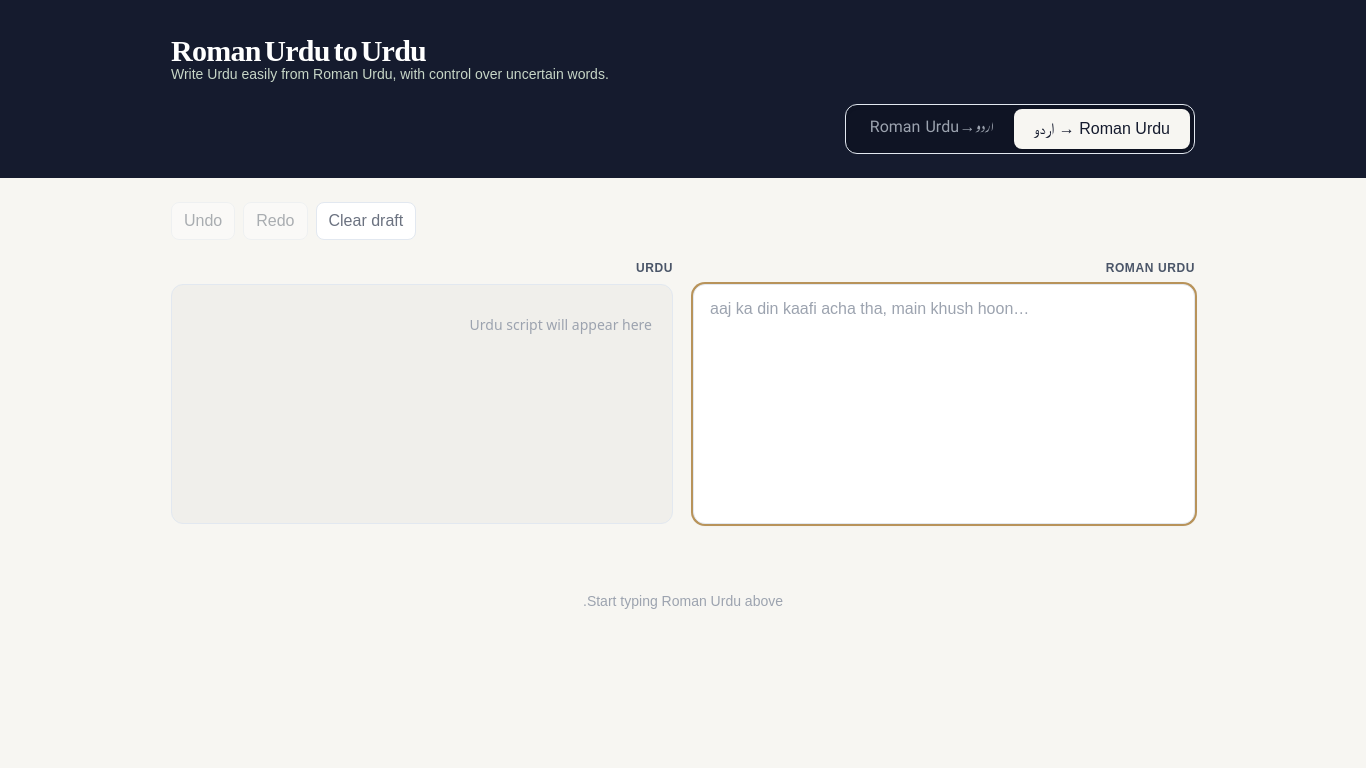
Scenario: 7. token choice survives transfer to Urdu draft
Later steps or results of the test are not shown.
In the text box with id "roman-input": [944, 404] box x1=693 y1=284 x2=1195 y2=524, type "main wahan gaya"
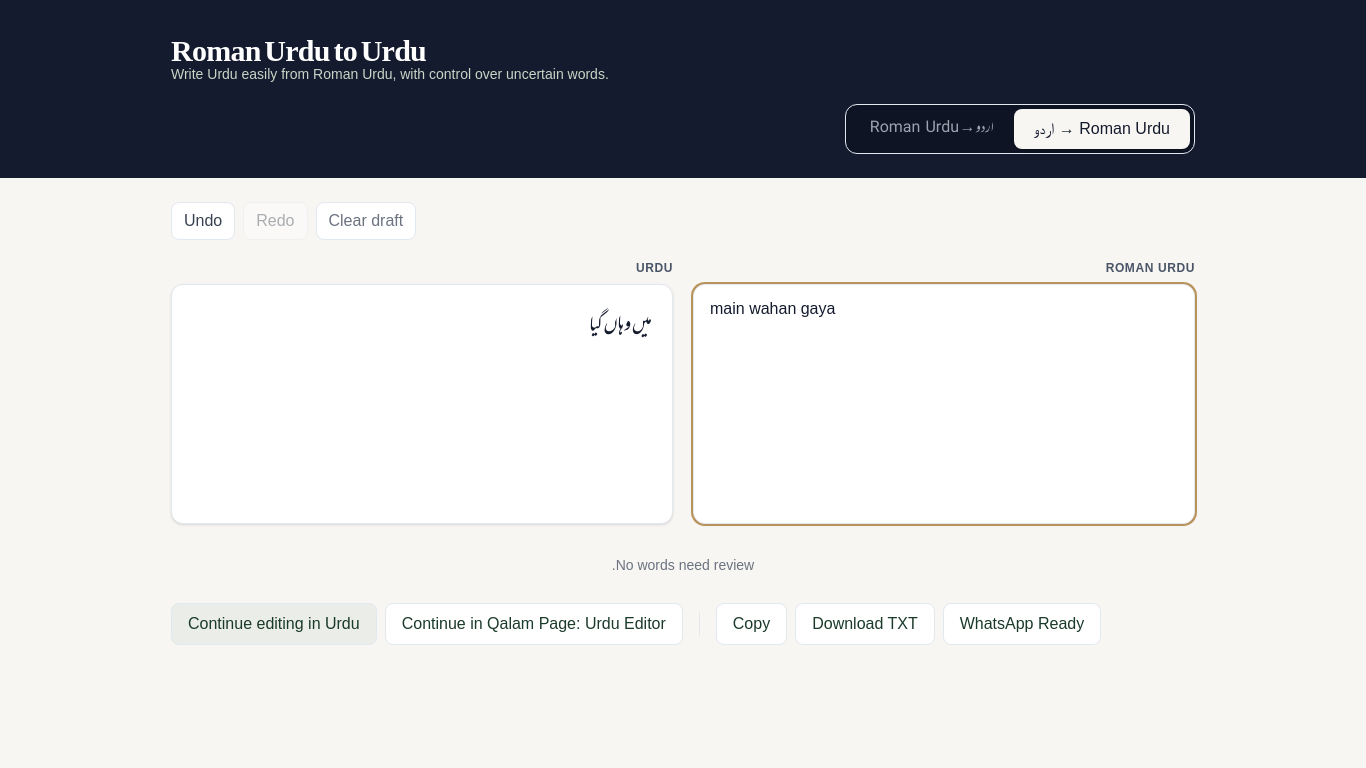
Click the button with test id "writer-continue-editing": [274, 624] box x1=171 y1=603 x2=377 y2=645
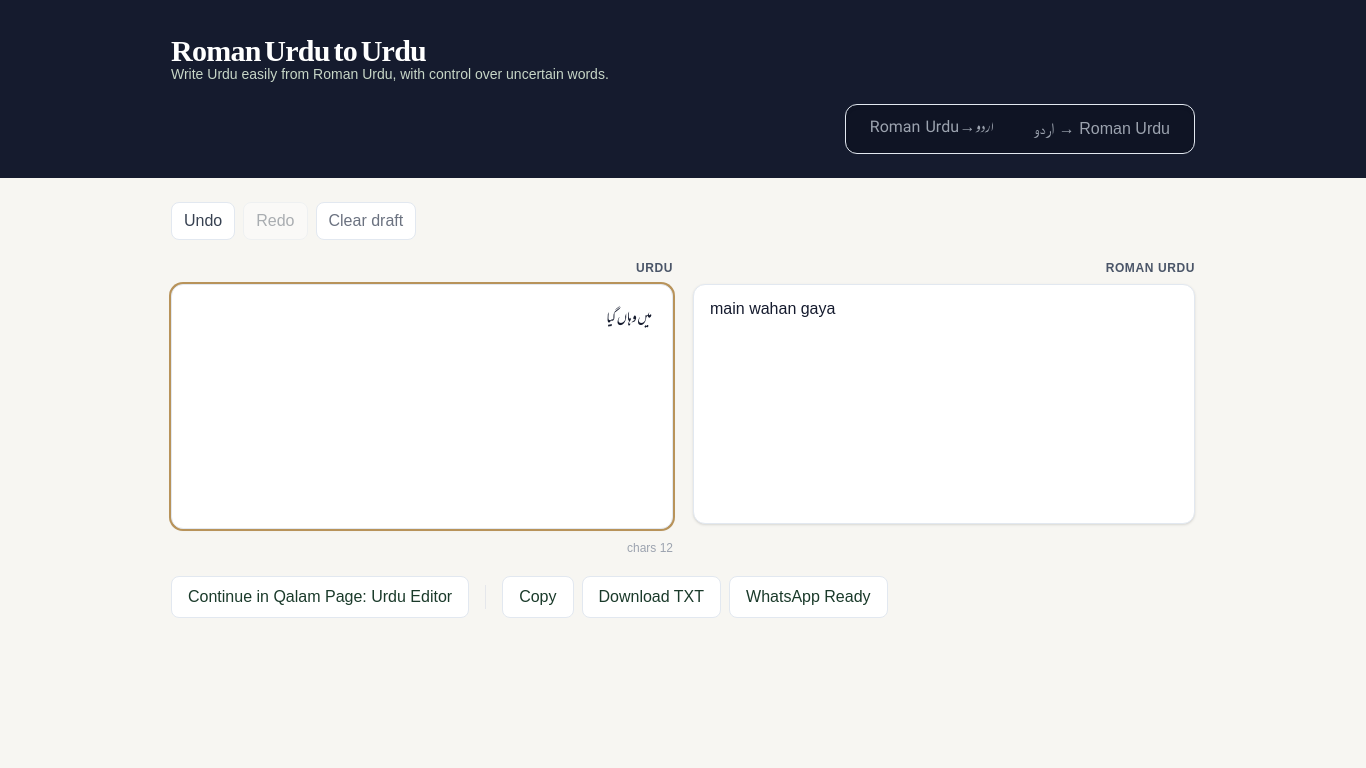
Expected: the text box with id "urdu-input" holds "میں وہاں گیا", x1=171 y1=284 x2=673 y2=529
